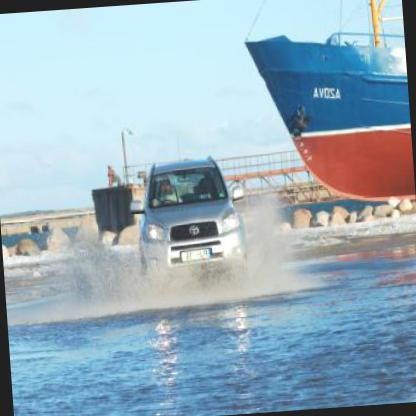car: (126, 138, 252, 274)
